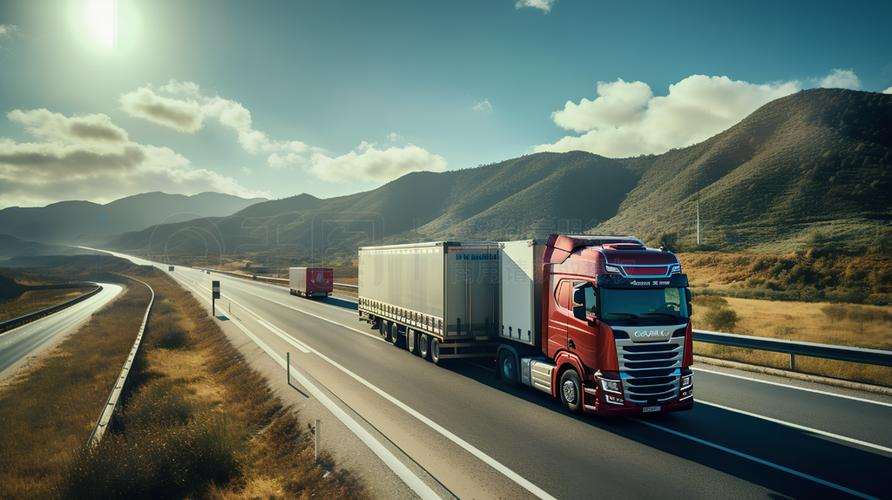卡车: (349, 238, 711, 427)
